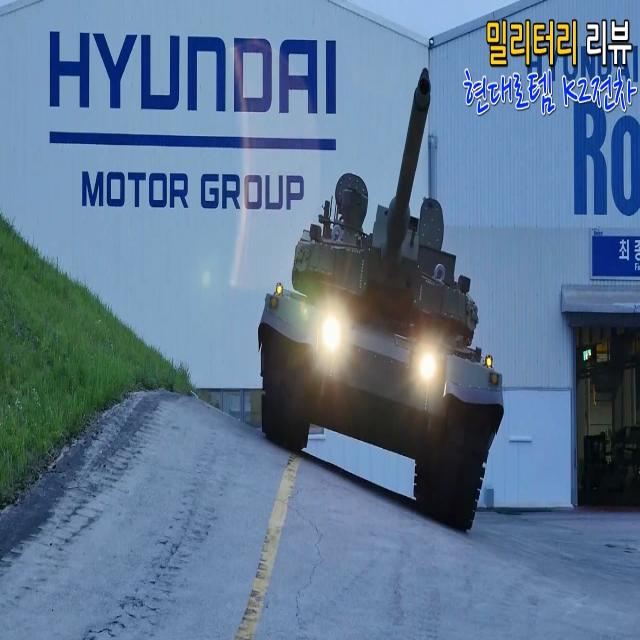korea tank: (258, 69, 504, 532)
